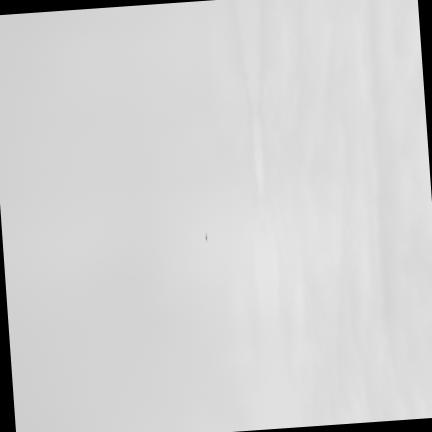Shahed: (204, 232, 206, 241)
